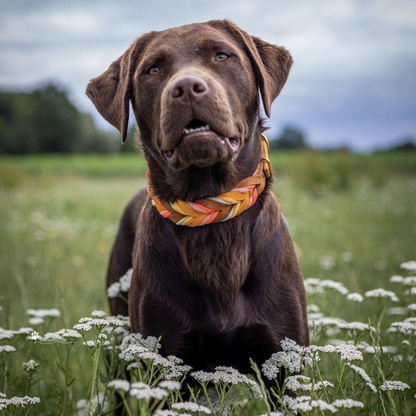labrado: (82, 17, 314, 416)
